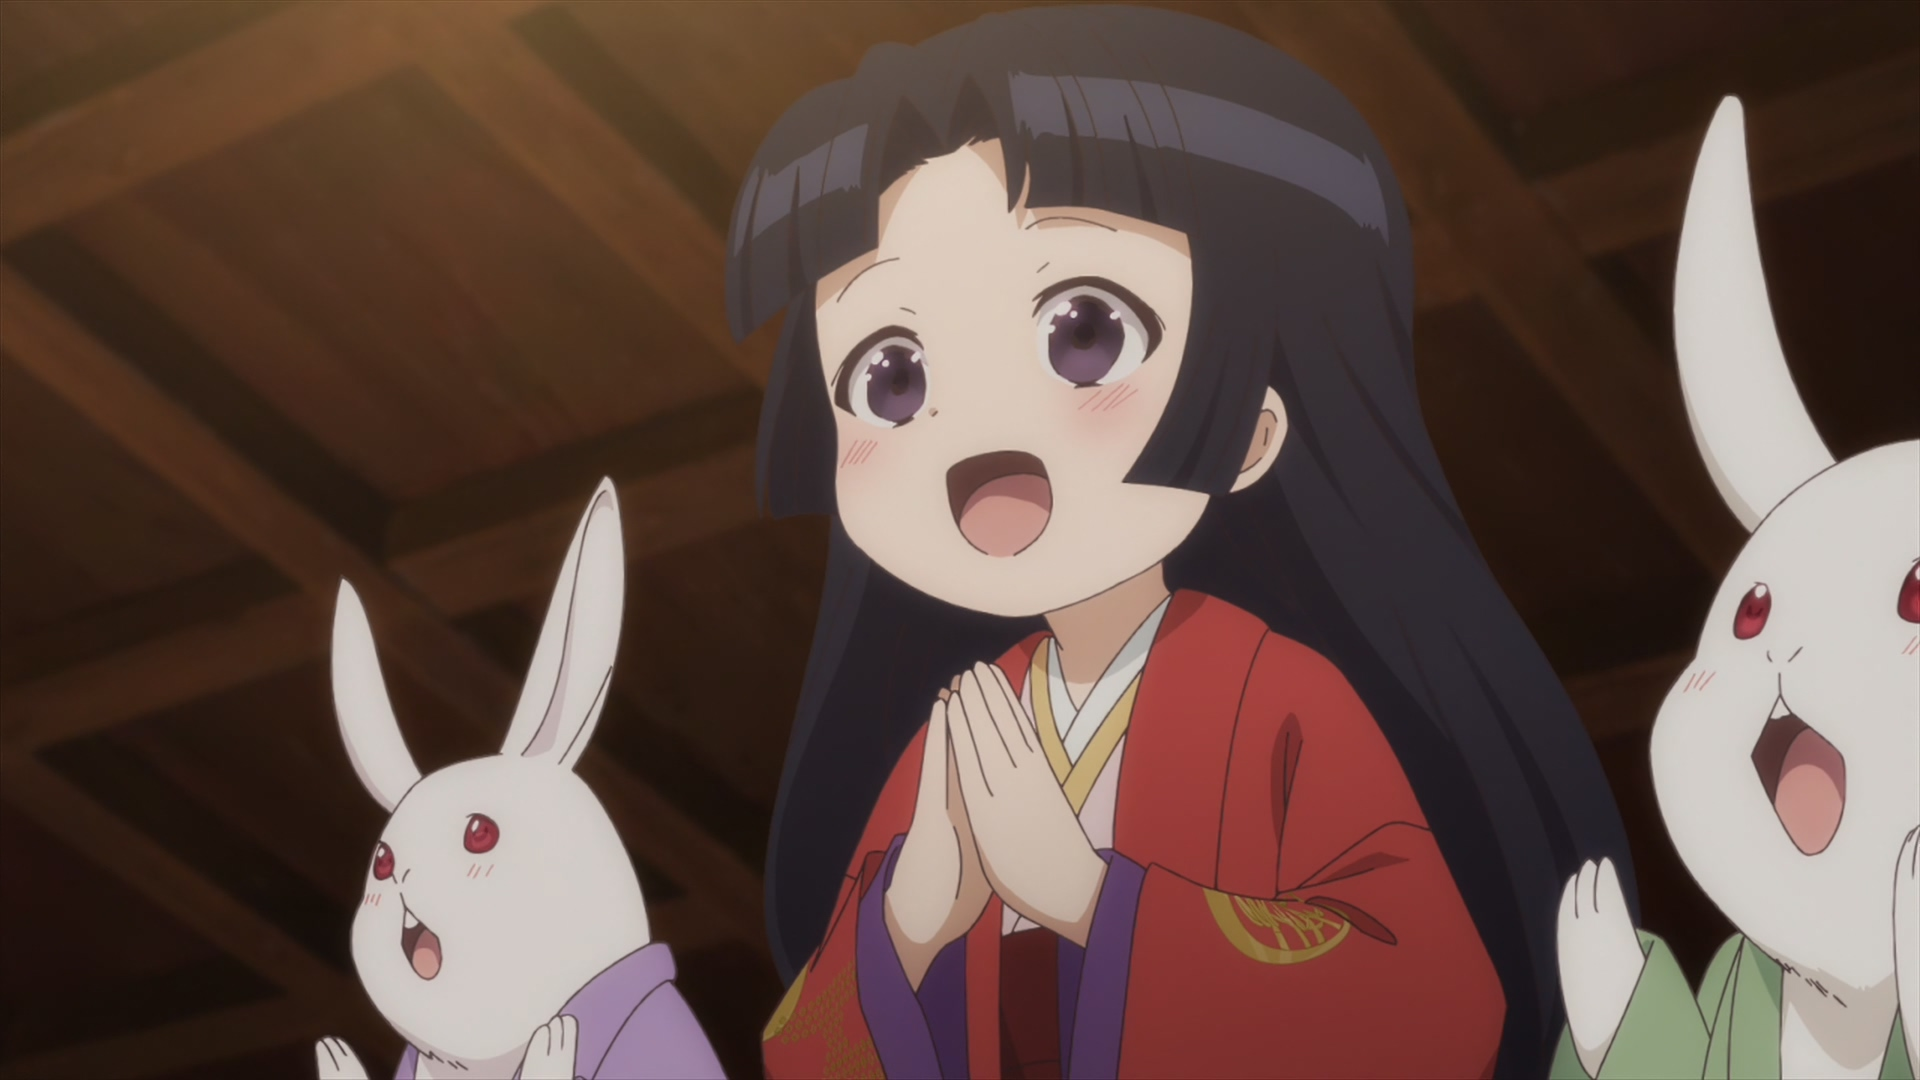其他: (723, 1, 1639, 1080), (1548, 91, 1920, 1080), (313, 476, 723, 1080)
